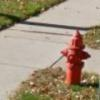a fire hydrant: (62, 30, 91, 85)
